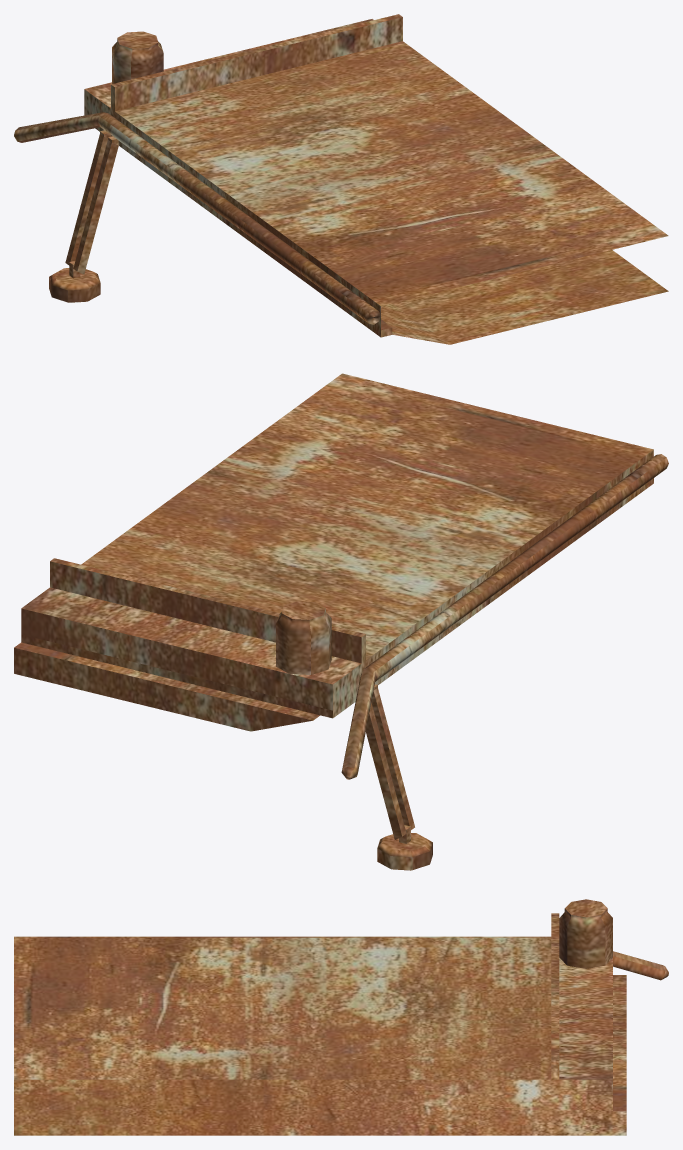
File: SSCWreckage1.fbx
3 views of the same model, one above another, from view 1: azimuth 30°, elevation 25°; view 2: azimuth 150°, elevation 25°; view 3: azimuth 270°, elevation 25° (orthographic). The views are drawn at different scales.
Visible parts, largest first — view 1: SSCWreckage1; view 2: SSCWreckage1; view 3: SSCWreckage1.
Part boxes in pixels (box(x1,y1,x2,y2)): SSCWreckage1: box(14, 14, 668, 344); SSCWreckage1: box(14, 373, 668, 870); SSCWreckage1: box(14, 899, 668, 1135).
Size of the model in its own units: 30300 by 18545 by 48760.
